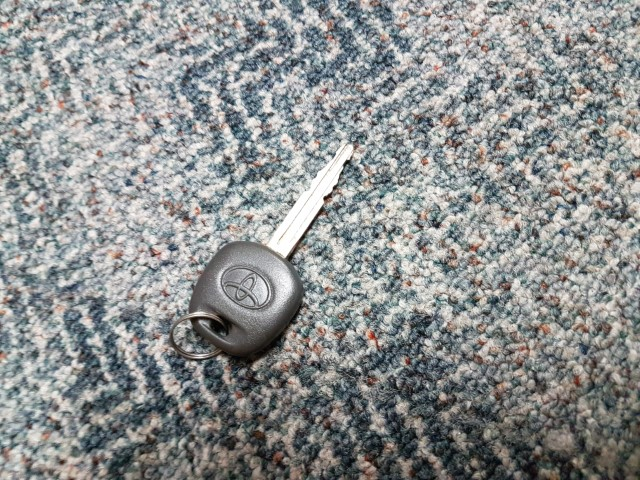key: (188, 143, 355, 358)
